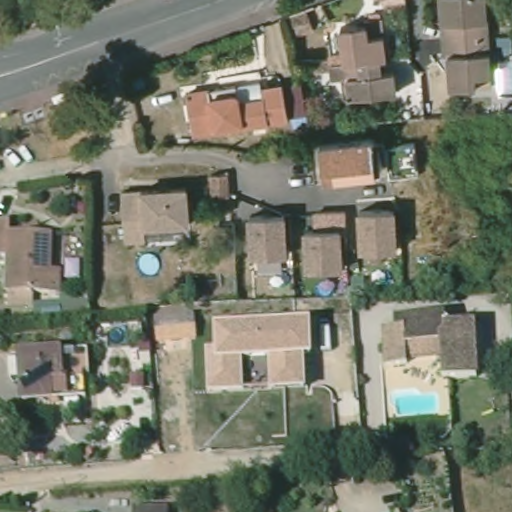pool: (390, 390, 442, 419), (133, 252, 166, 279)
